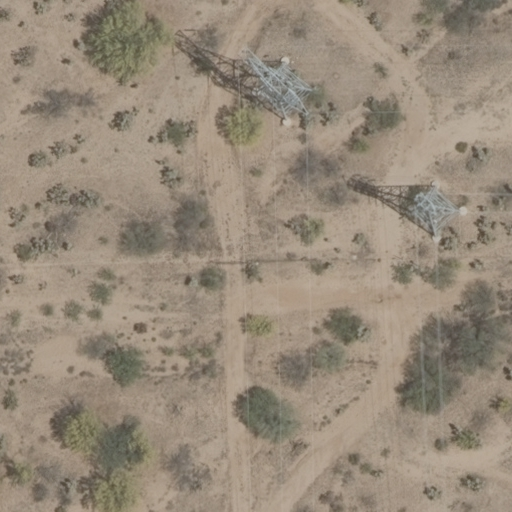TT: (232, 40, 323, 132), (398, 172, 479, 248)
